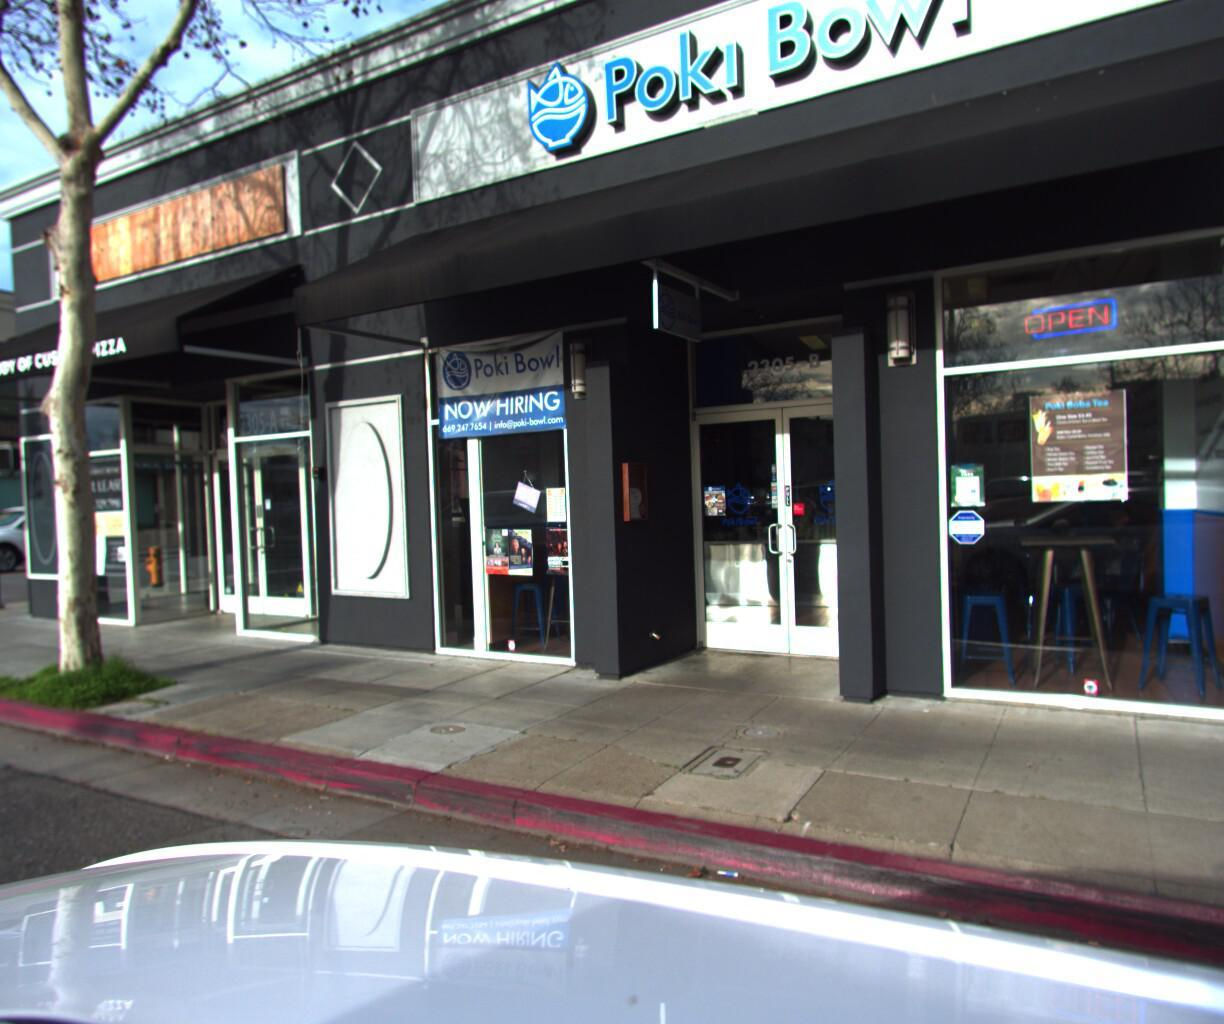car: (0, 502, 136, 577)
